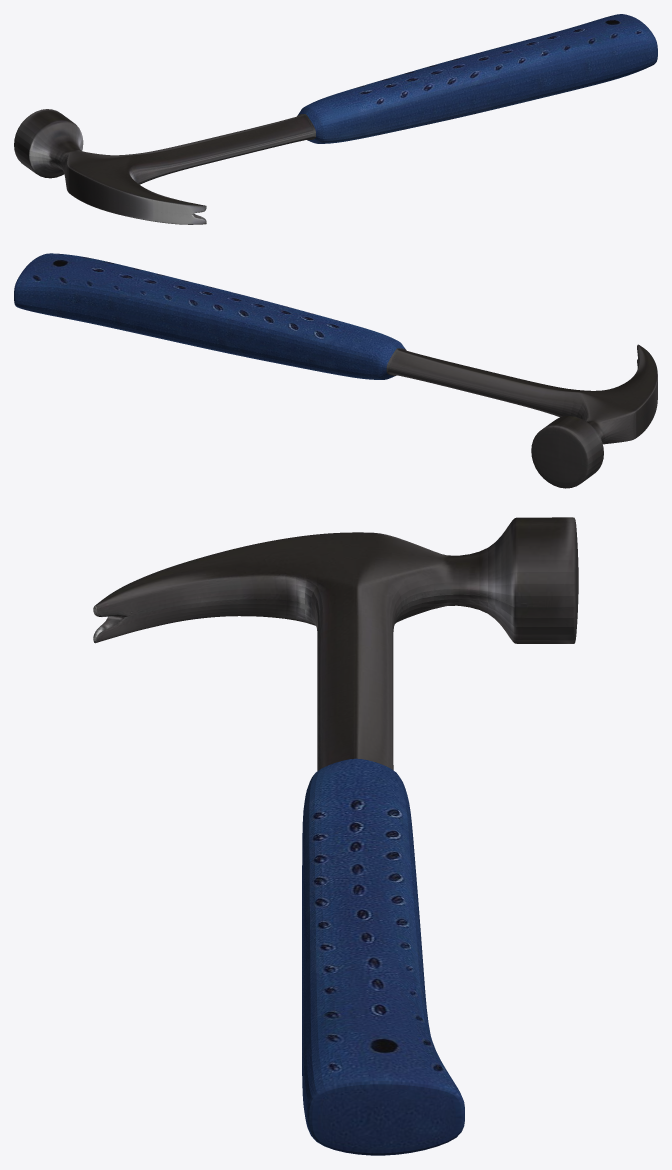
Rendered from hammer.glb.
3 renders of one model, top to bottom at view 1: azimuth 30°, elevation 25°; view 2: azimuth 150°, elevation 25°; view 3: azimuth 270°, elevation 25°, orthographic. The views are drawn at different scales.
Visible parts, largest first — view 1: 10293_Hammer_v1_iterations-2.obj; view 2: 10293_Hammer_v1_iterations-2.obj; view 3: 10293_Hammer_v1_iterations-2.obj.
Boxes of the visible parts, x1=… form: 10293_Hammer_v1_iterations-2.obj: x1=14, y1=14, x2=657, y2=224; 10293_Hammer_v1_iterations-2.obj: x1=14, y1=253, x2=657, y2=488; 10293_Hammer_v1_iterations-2.obj: x1=93, y1=517, x2=578, y2=1155.
Bounding box in the file's own units: 32.87 × 3.11 × 11.92.
Materials: 1 (1 with a texture image).
